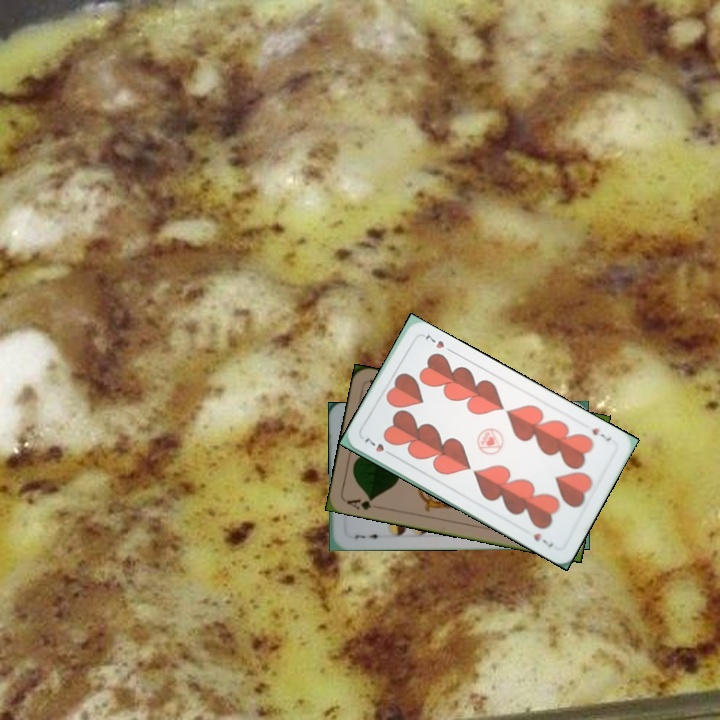E7: (350, 530, 384, 541)
GA: (343, 494, 383, 513)
H7: (360, 433, 396, 459), (588, 423, 614, 444)
